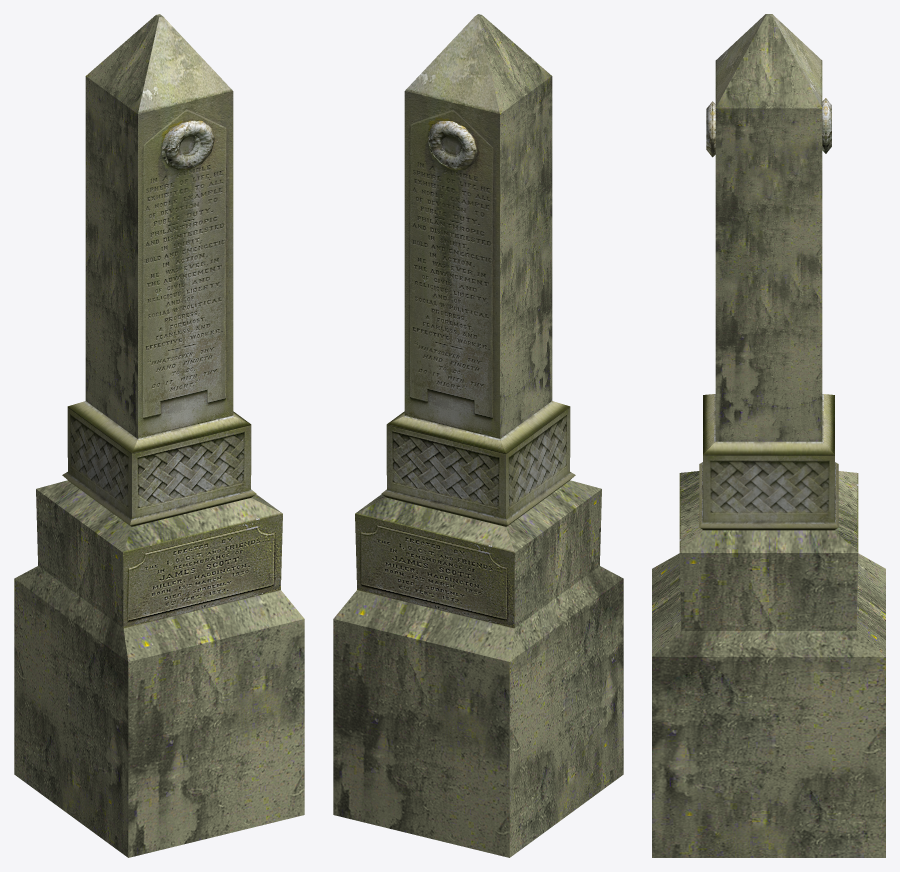
File: Headstone_09.fbx
3 views of the same model, side by side, from view 1: azimuth 30°, elevation 25°; view 2: azimuth 150°, elevation 25°; view 3: azimuth 270°, elevation 25° (orthographic). The views are drawn at different scales.
Parts seen in each view (by area): view 1: polySurface1; view 2: polySurface1; view 3: polySurface1.
Boxes of the visible parts, bbox=[...] form: polySurface1: bbox=[14, 14, 304, 857]; polySurface1: bbox=[333, 14, 623, 857]; polySurface1: bbox=[652, 14, 885, 857].
Bounding box in the file's own units: 0.5445 × 2.3 × 0.6099.
